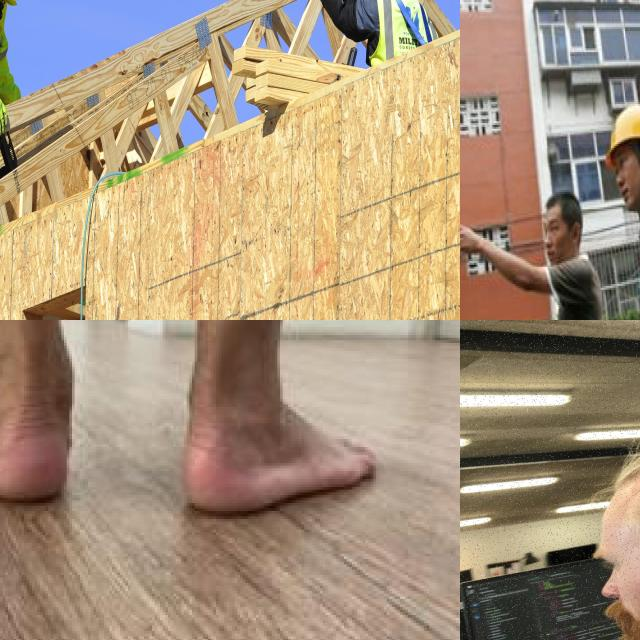Barefoots: (182, 376, 398, 545), (0, 359, 98, 501)
Ear-protection: (563, 402, 640, 640)
No_Ear-Protection: (572, 223, 580, 244)
No_Glasses: (544, 219, 562, 234)
face_nomask: (544, 235, 575, 265)
hand_glove: (0, 90, 15, 146)
hand_noglove: (460, 224, 480, 254)
head_helmet: (606, 103, 640, 166)
head_nohelmet: (545, 191, 582, 229)
person: (0, 0, 68, 211), (336, 0, 437, 59)
vest: (369, 0, 427, 51)
